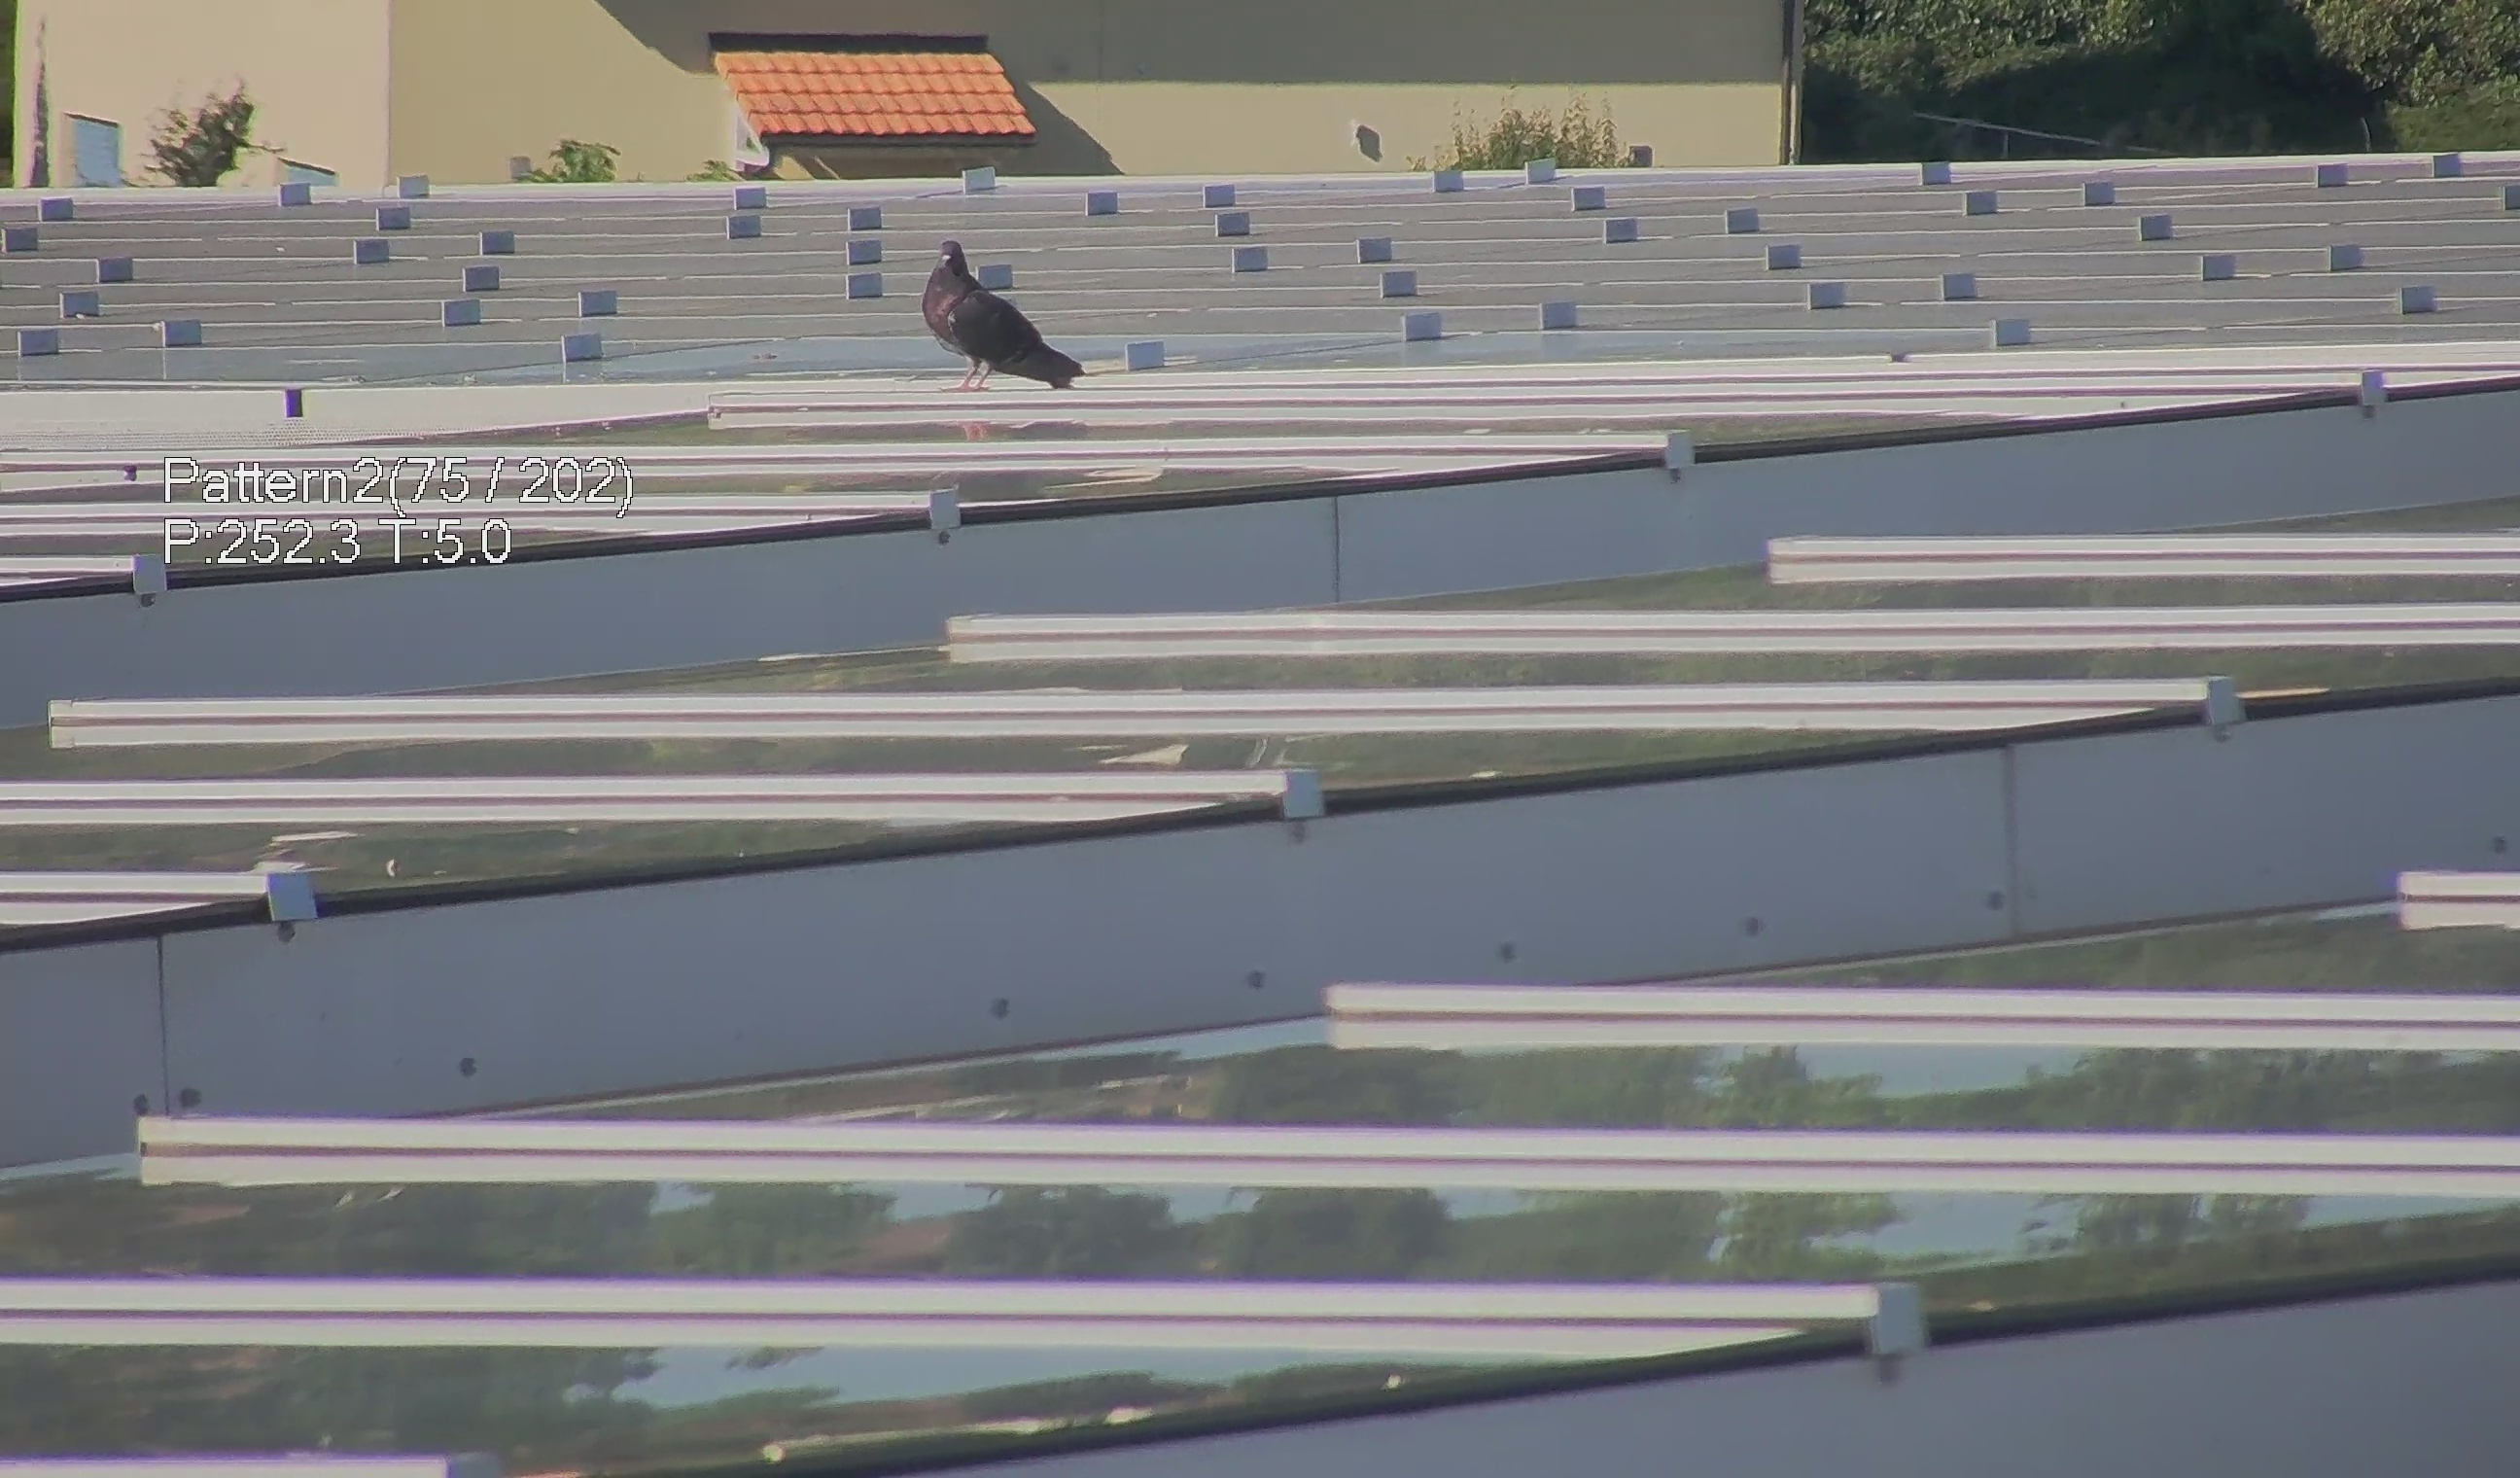Pigeon: (906, 232, 1087, 392)
